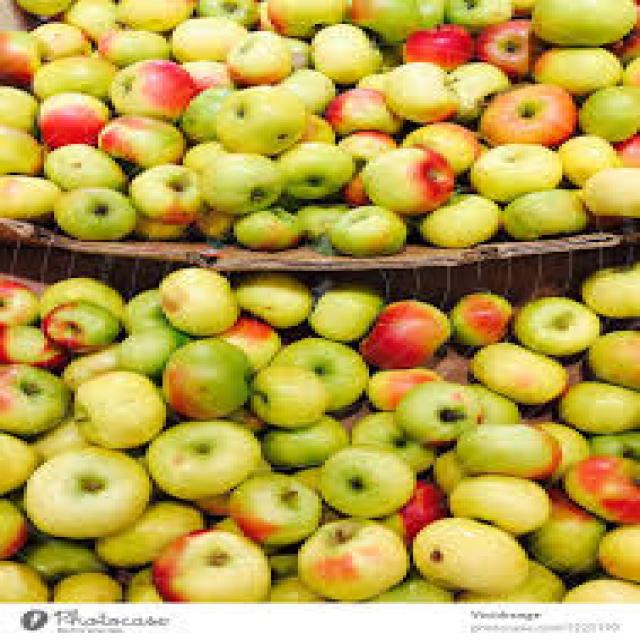organic waste: (20, 444, 149, 534), (142, 417, 258, 499), (298, 516, 406, 600), (406, 516, 525, 588), (149, 525, 264, 599), (521, 482, 603, 575), (268, 333, 366, 408), (92, 498, 196, 566), (352, 297, 450, 369), (227, 468, 318, 544), (71, 369, 159, 446), (356, 144, 454, 213), (210, 86, 305, 154), (318, 443, 410, 513), (440, 472, 545, 532), (478, 82, 576, 146), (454, 422, 558, 479), (156, 261, 237, 333), (464, 343, 562, 400), (508, 292, 593, 355), (393, 378, 481, 438), (0, 357, 68, 434), (193, 149, 274, 213), (108, 57, 190, 120), (528, 41, 620, 96), (558, 456, 636, 520), (467, 142, 559, 196), (379, 58, 454, 124), (348, 407, 426, 470), (244, 364, 322, 427), (183, 458, 271, 513), (274, 137, 352, 199), (494, 187, 590, 237), (525, 0, 636, 43), (30, 84, 105, 146), (348, 0, 444, 48), (34, 271, 122, 323), (410, 192, 498, 244), (308, 19, 383, 79), (125, 161, 203, 218), (447, 58, 511, 127), (548, 379, 636, 429), (227, 268, 305, 324), (95, 113, 179, 165), (450, 559, 559, 599), (335, 125, 393, 199), (47, 185, 129, 237), (258, 414, 346, 462), (305, 280, 379, 336), (399, 120, 481, 170), (41, 139, 122, 189), (220, 27, 288, 86), (328, 201, 403, 252), (474, 17, 535, 79), (31, 53, 115, 96), (213, 314, 278, 369), (37, 300, 115, 345), (166, 14, 240, 60), (322, 84, 392, 132), (359, 367, 437, 410), (274, 62, 339, 113), (447, 288, 508, 342), (572, 163, 637, 213), (576, 82, 636, 136), (261, 552, 328, 600), (576, 261, 636, 314), (400, 24, 474, 65), (579, 331, 637, 383), (118, 328, 183, 374), (14, 535, 88, 575), (264, 0, 346, 36), (227, 206, 298, 247), (559, 134, 613, 187), (173, 86, 227, 139), (0, 170, 54, 221), (396, 474, 440, 534), (0, 319, 58, 364), (592, 523, 636, 580), (61, 343, 115, 388), (0, 424, 37, 489), (119, 286, 176, 328), (468, 379, 522, 422), (434, 0, 512, 29), (61, 0, 115, 41), (111, 0, 193, 26), (30, 412, 84, 451), (27, 19, 85, 53), (555, 576, 637, 600), (98, 28, 163, 58), (369, 576, 450, 600), (0, 31, 37, 82), (128, 208, 190, 238), (0, 125, 37, 175), (427, 443, 467, 489), (0, 559, 44, 599), (179, 55, 227, 91), (48, 570, 119, 594), (192, 0, 257, 26), (0, 273, 34, 321), (0, 496, 27, 556), (118, 559, 156, 599), (190, 206, 233, 240), (291, 204, 335, 237), (586, 429, 636, 458), (0, 81, 30, 129), (172, 139, 224, 163), (606, 125, 637, 165), (298, 108, 332, 141), (606, 22, 637, 58), (281, 31, 308, 72), (284, 462, 318, 493), (13, 0, 74, 14), (620, 53, 636, 84), (508, 0, 528, 12)
